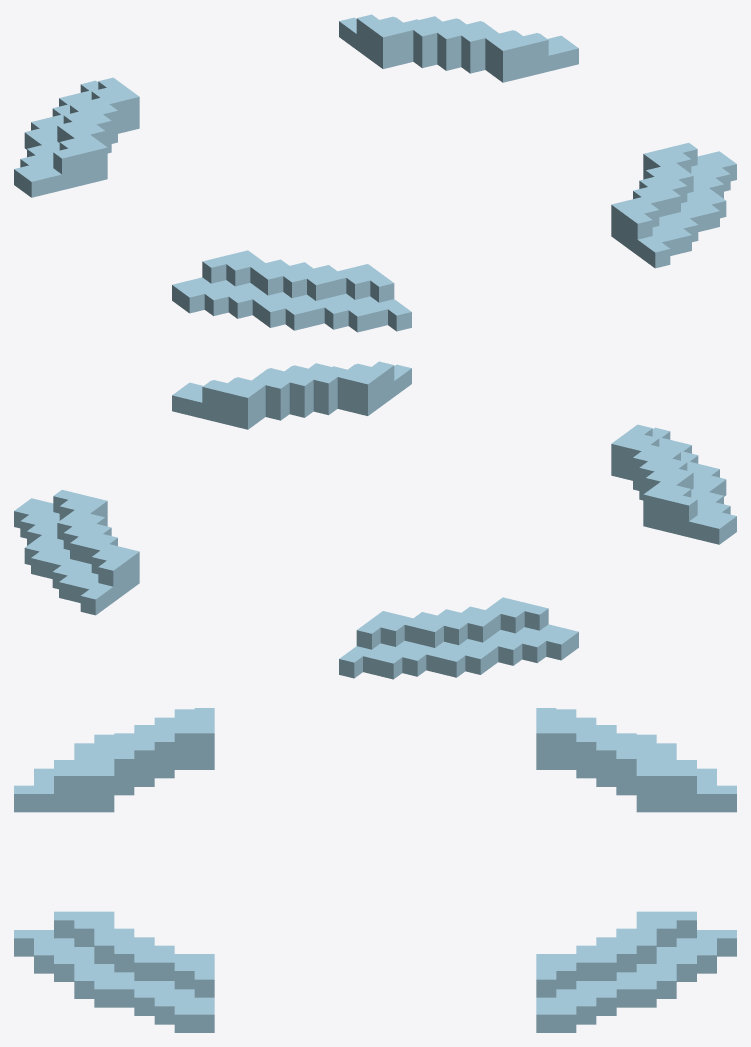
File: independence_monument_reflection.obj
3 renders of one model, top to bottom at view 1: azimuth 30°, elevation 25°; view 2: azimuth 150°, elevation 25°; view 3: azimuth 270°, elevation 25°, orthographic. The views are drawn at different scales.
Size of the model in its own units: 3.6 by 0.2 by 3.6.
1 material, 1 textured.
